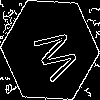W: (25, 24, 81, 88)
